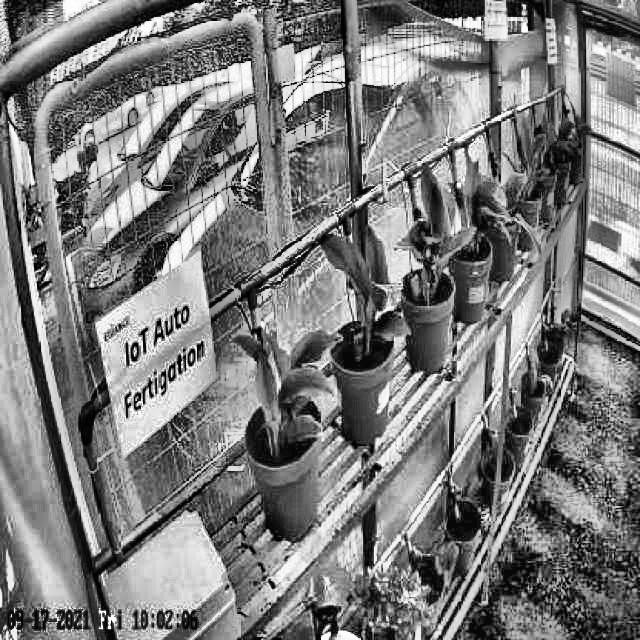plants: (230, 328, 344, 442), (319, 226, 412, 345), (398, 162, 472, 270), (459, 152, 512, 260)
